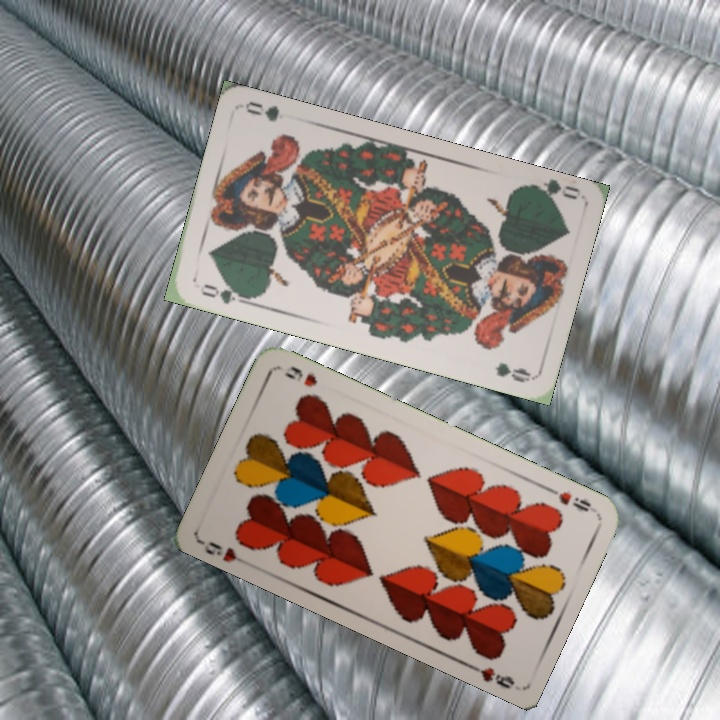GO: (521, 176, 582, 207), (197, 280, 251, 307)
H9: (542, 482, 594, 515), (201, 537, 240, 565)
